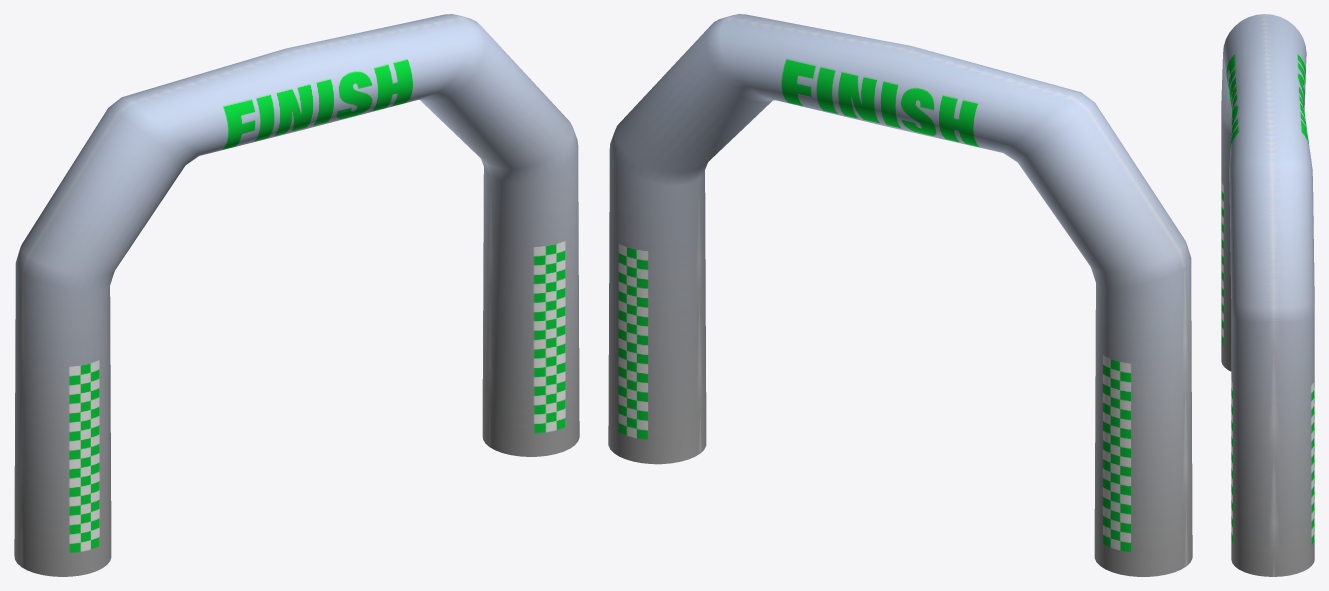
Rendered from FinishLine.fbx.
3 renders of one model, left to right at view 1: azimuth 30°, elevation 25°; view 2: azimuth 150°, elevation 25°; view 3: azimuth 270°, elevation 25°, orthographic. The views are drawn at different scales.
Visible parts, largest first — view 1: Cylinder.001_Material.001_0; view 2: Cylinder.001_Material.001_0; view 3: Cylinder.001_Material.001_0.
Boxes of the visible parts, x1=… form: Cylinder.001_Material.001_0: x1=14, y1=14, x2=579, y2=576; Cylinder.001_Material.001_0: x1=608, y1=14, x2=1192, y2=576; Cylinder.001_Material.001_0: x1=1221, y1=14, x2=1314, y2=576.
Size of the model in its own units: 132 by 100 by 22.24.
Materials: 1 (1 with a texture image).
